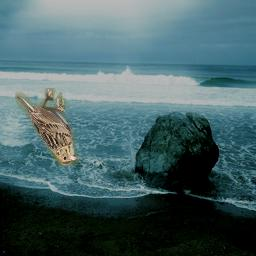Sparrow: (15, 88, 78, 166)
